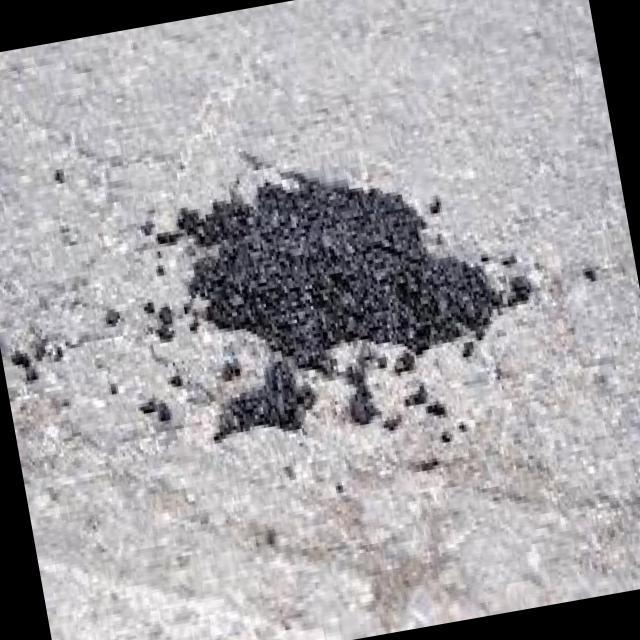Pothole: (159, 174, 535, 423)
